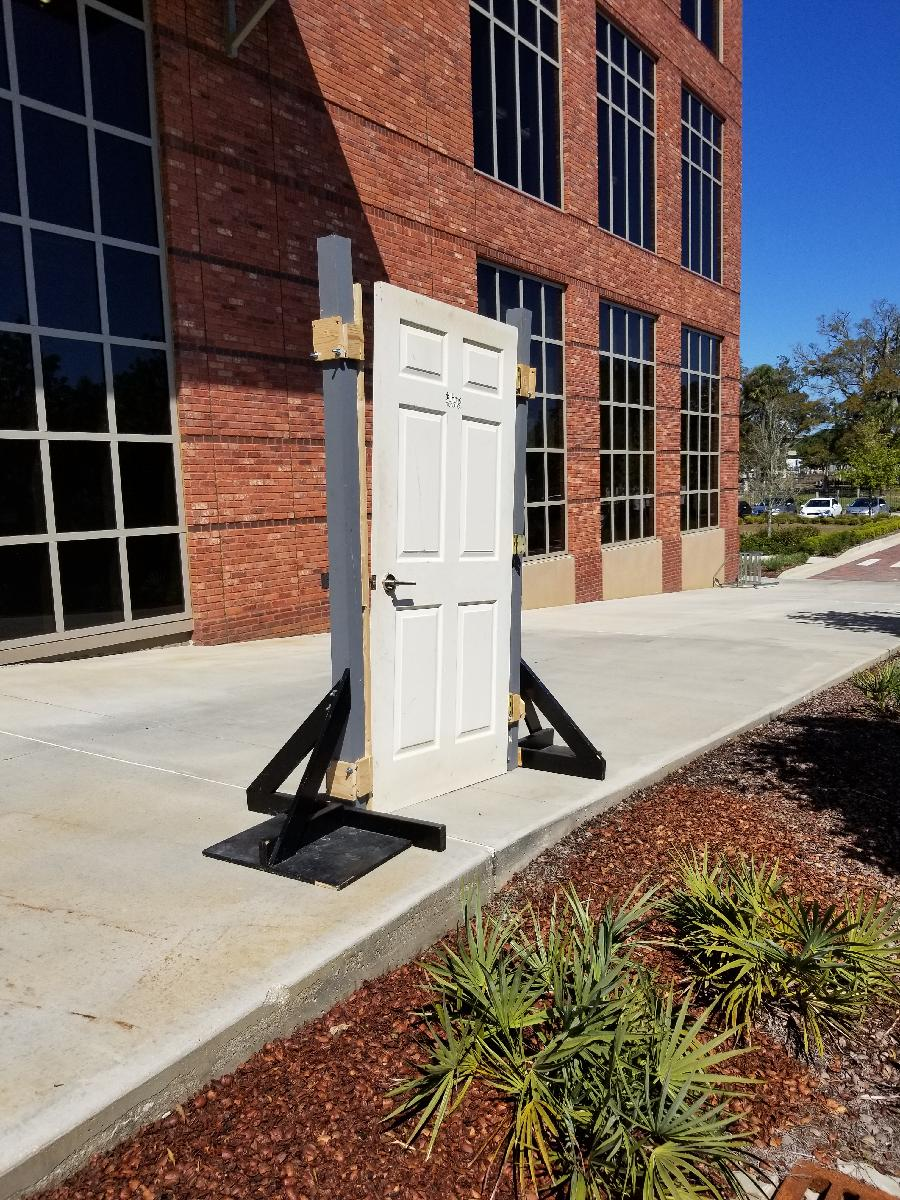door: (366, 277, 520, 821)
doorHandle: (377, 572, 421, 601)
